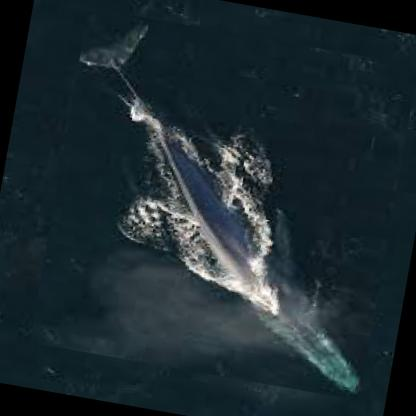blue_whale: (28, 5, 415, 400)
